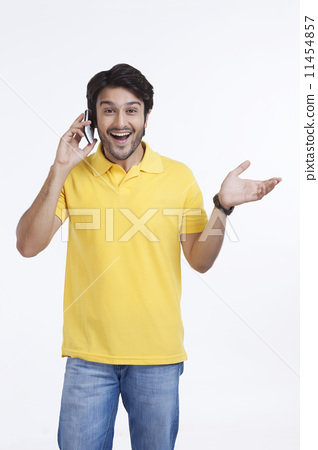phone: (77, 108, 104, 149)
talk: (57, 93, 146, 168)
